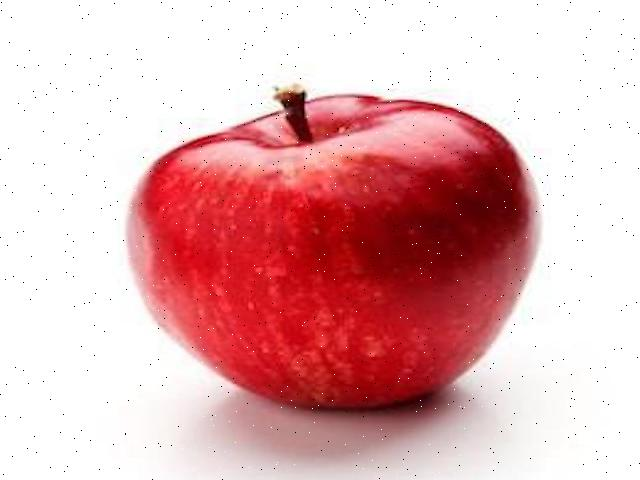apple: (117, 80, 548, 419)
